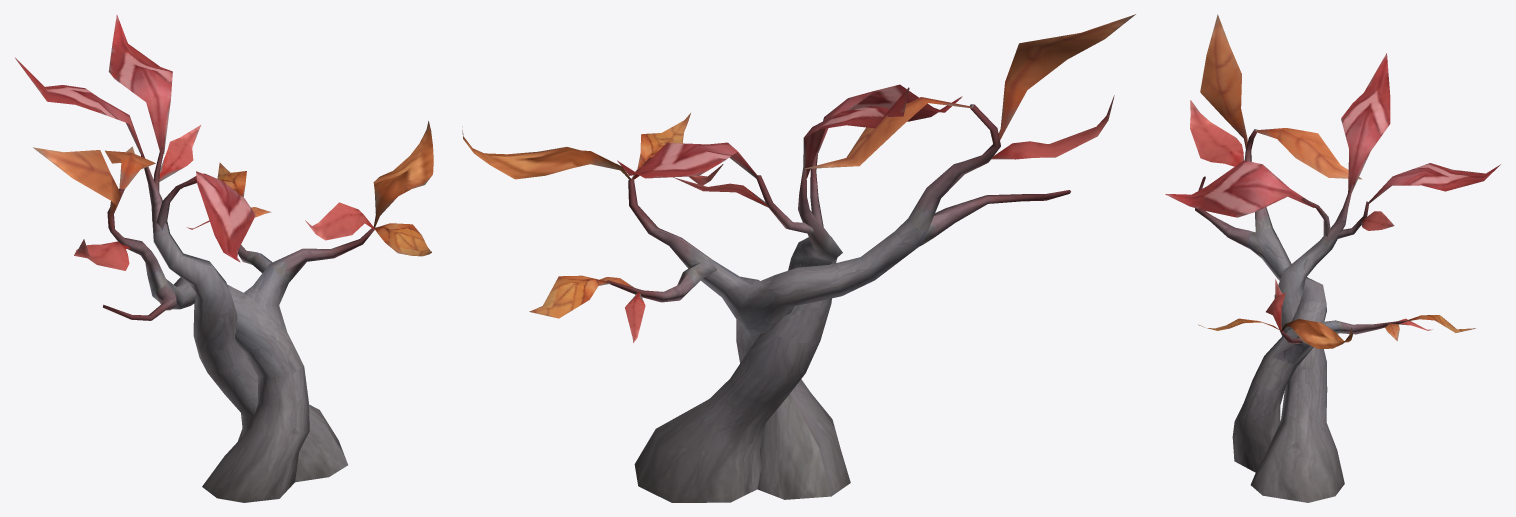
Rendered from AN_RedTree02.FBX.
3 renders of one model, left to right at view 1: azimuth 30°, elevation 25°; view 2: azimuth 150°, elevation 25°; view 3: azimuth 270°, elevation 25°, orthographic. The views are drawn at different scales.
Visible parts, largest first — view 1: AN_RedTree02; view 2: AN_RedTree02; view 3: AN_RedTree02.
Boxes of the visible parts, x1=… form: AN_RedTree02: x1=15, y1=15, x2=433, y2=502; AN_RedTree02: x1=462, y1=14, x2=1135, y2=502; AN_RedTree02: x1=1165, y1=14, x2=1500, y2=502.
Size of the model in its own units: 764 by 647 by 569.
Materials: 1 (1 with a texture image).
